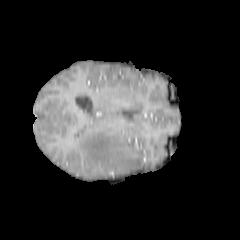glioma: (74, 128, 143, 176)
